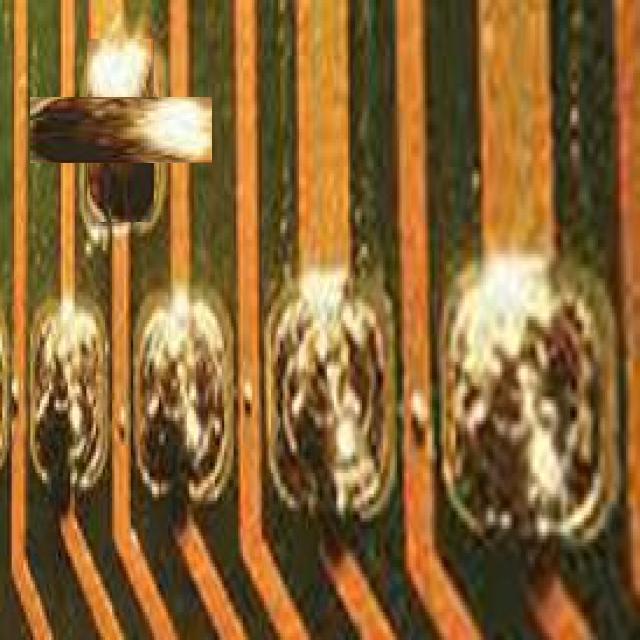redundant: (30, 98, 212, 163)
